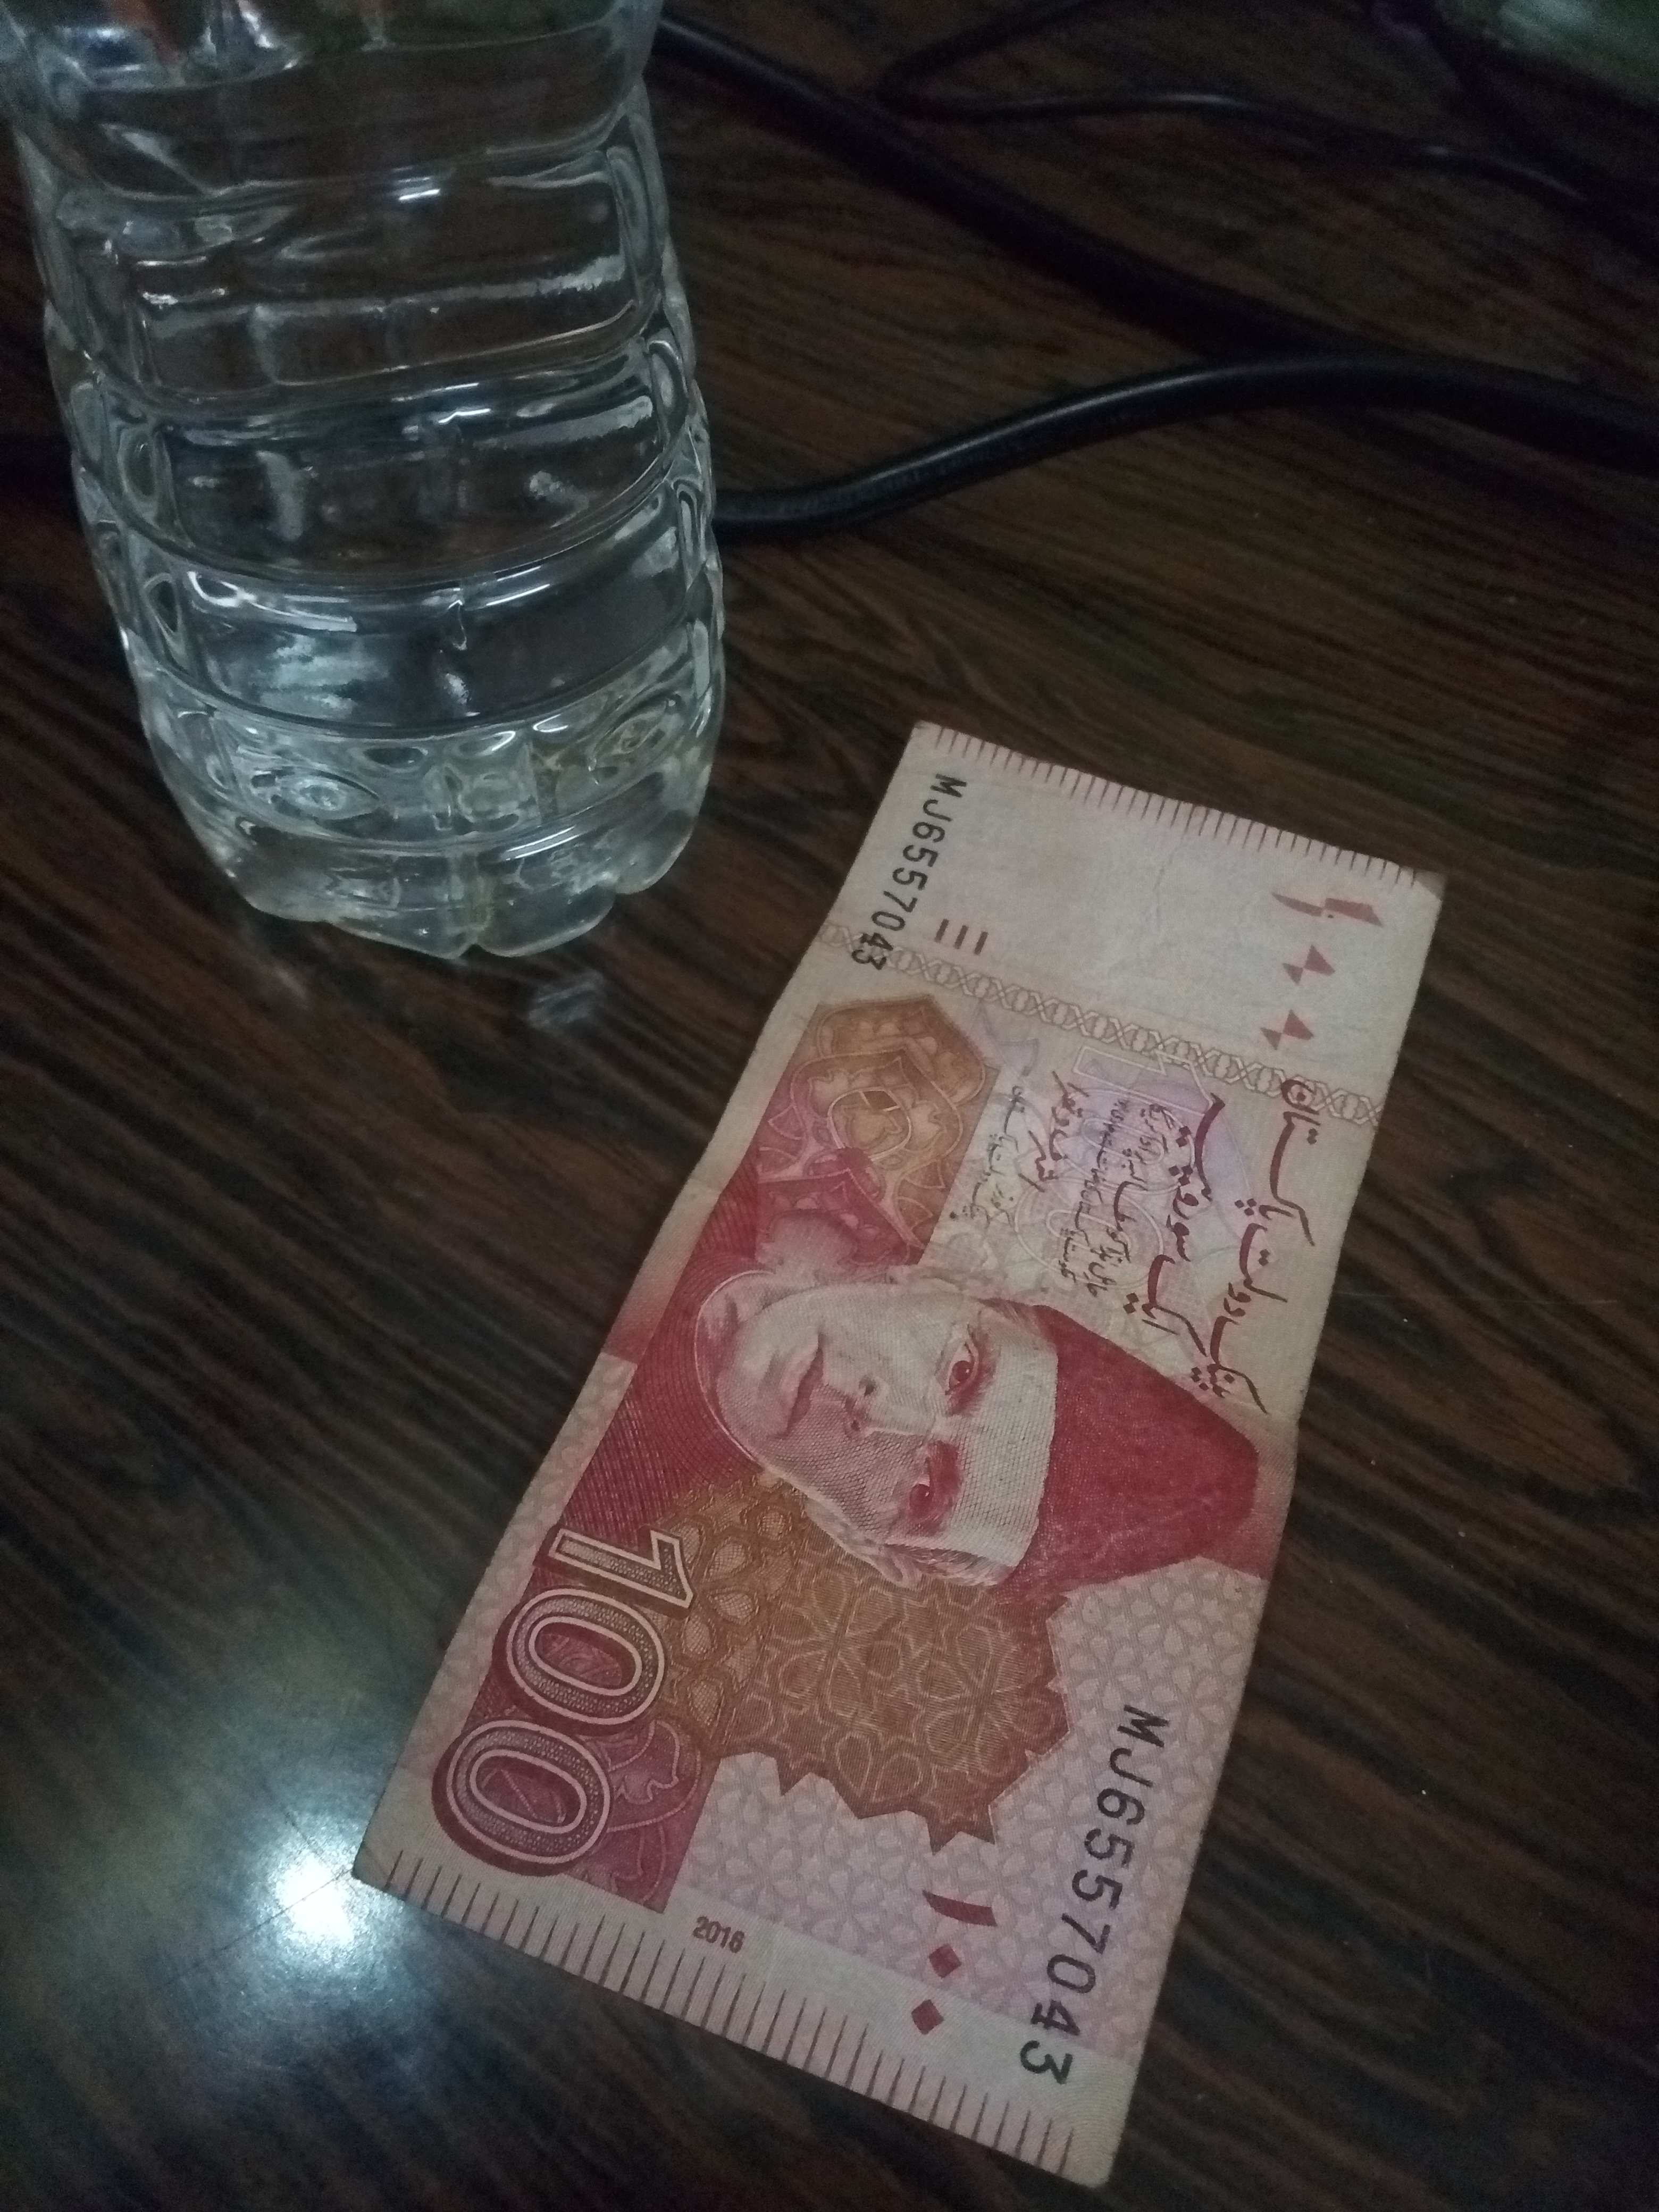100 rupee: (401, 702, 1436, 2189)
